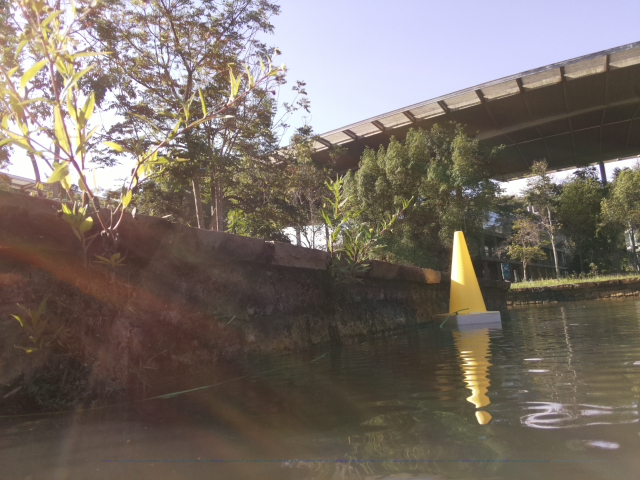checkpoint: (433, 229, 501, 326)
